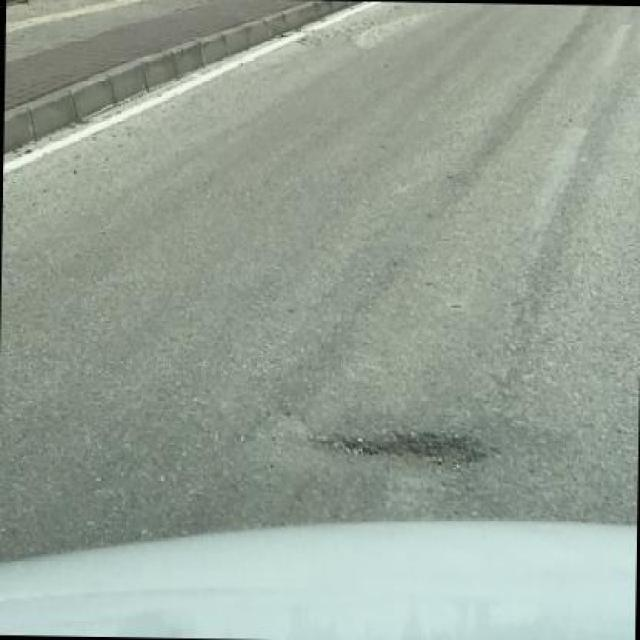pothole: (315, 432, 494, 468)
